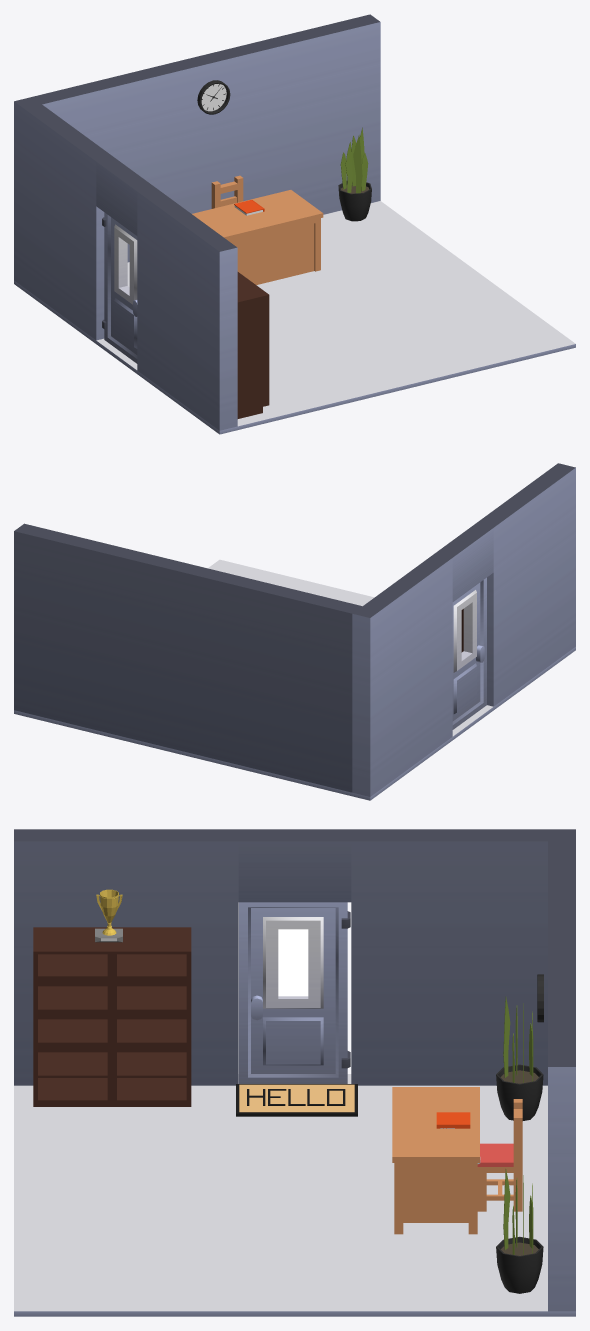
The model's file is Reception.glb.
3 renders of one model, top to bottom at view 1: azimuth 30°, elevation 25°; view 2: azimuth 150°, elevation 25°; view 3: azimuth 270°, elevation 25°, orthographic. The views are drawn at different scales.
Visible parts, largest first — view 1: Wall, Floor, Desk, Door, Cabinet, HouseplantB, Clock, Chair; view 2: Wall, Floor, Door; view 3: Wall, Floor, Cabinet, Door, Desk, Doormat, HouseplantB, HouseplantA, Chair, Glass, Trophy.
Boxes of the visible parts, x1,y1,x2,y2 form: Wall: (14,14,380,430); Floor: (14,201,575,434); Desk: (192,190,323,284); Door: (102,212,137,363); Cabinet: (237,272,269,418); HouseplantB: (338,127,371,221); Clock: (197,80,230,114); Chair: (211,175,243,208); Wall: (14,463,575,796); Floor: (14,559,575,800); Door: (452,577,486,729); Wall: (14,829,575,1311); Floor: (14,1074,575,1316); Cabinet: (33,927,191,1106); Door: (239,902,350,1083); Desk: (392,1087,480,1234); Doormat: (236,1084,357,1116); HouseplantB: (496,1169,543,1293); HouseplantA: (496,996,543,1120); Chair: (477,1099,522,1211); Glass: (278,929,308,996); Trophy: (95,889,122,942).
Size of the model in its own units: 10 by 4.9 by 10.
24 materials, 8 textured.
